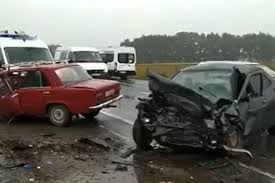car: (140, 47, 273, 159)
